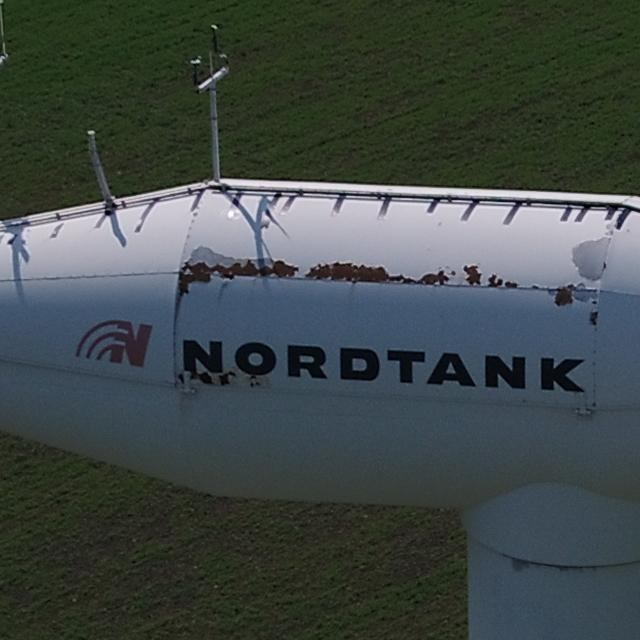damage: (172, 246, 301, 287), (305, 261, 457, 284), (572, 237, 613, 282), (551, 281, 577, 307), (463, 258, 481, 285), (486, 272, 505, 289), (585, 308, 600, 326), (501, 279, 518, 293)
